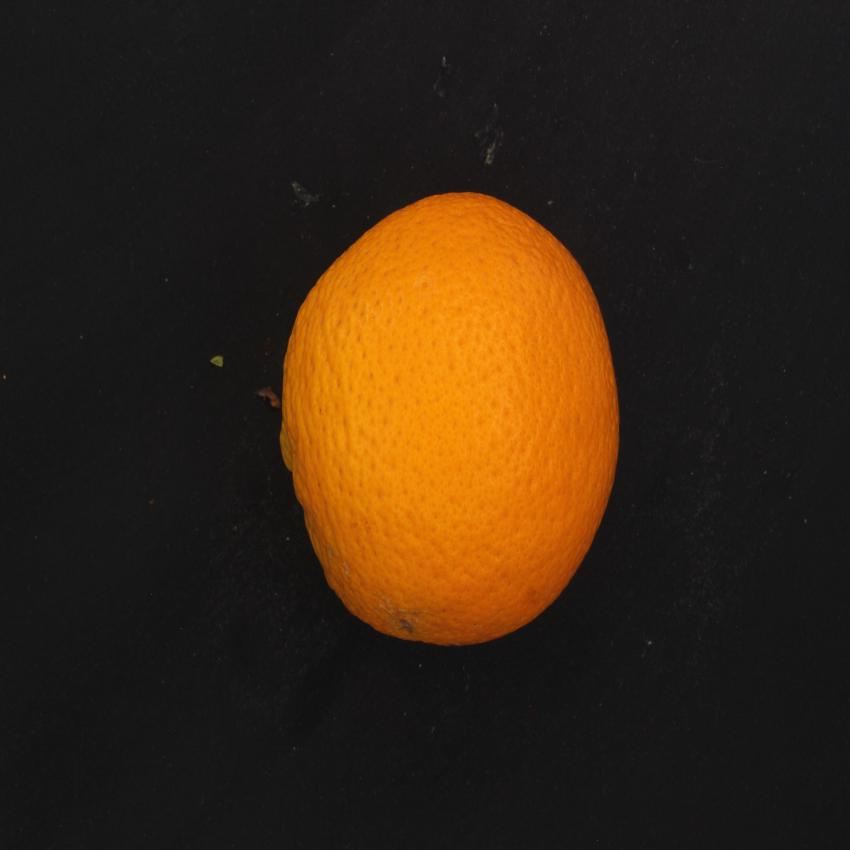Buen estado: (269, 181, 630, 660)
